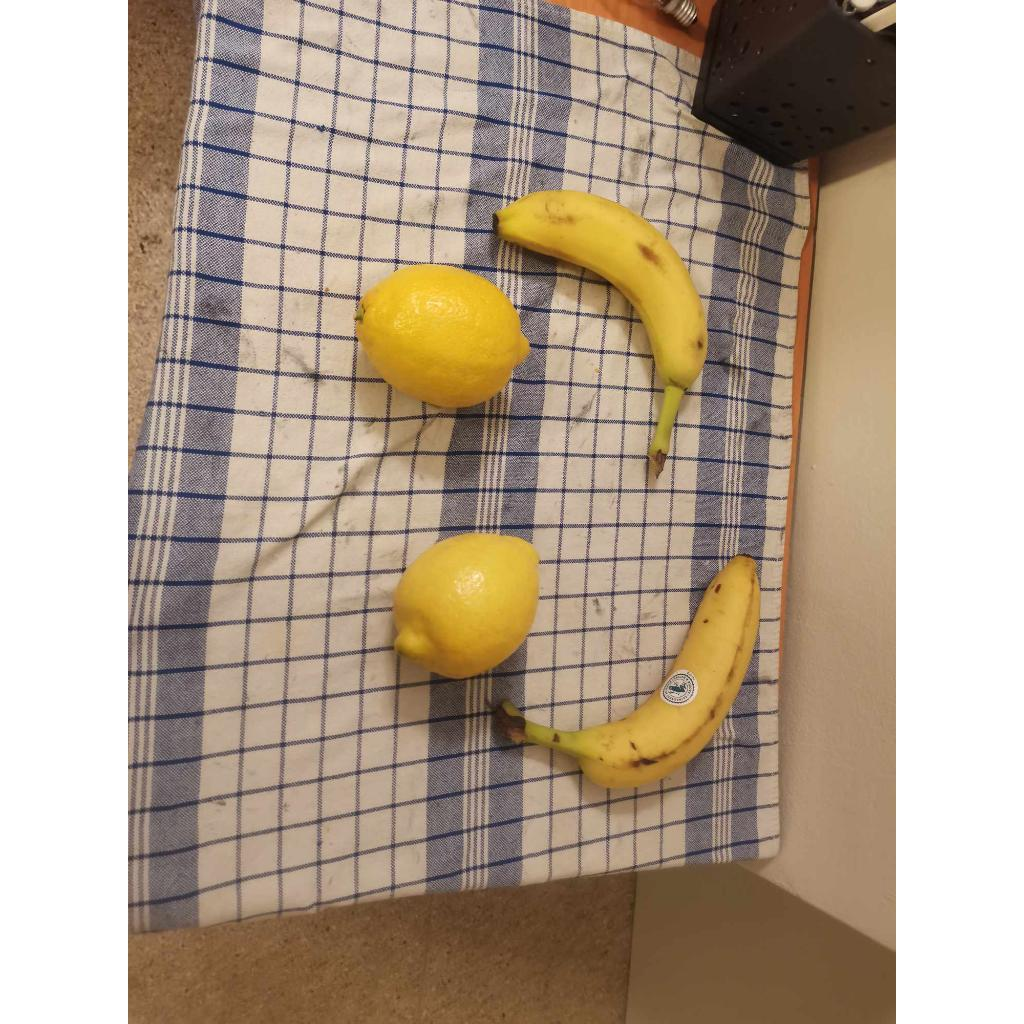banana: (494, 556, 760, 788), (494, 190, 708, 459)
lemon: (356, 264, 530, 408), (392, 534, 538, 678)
